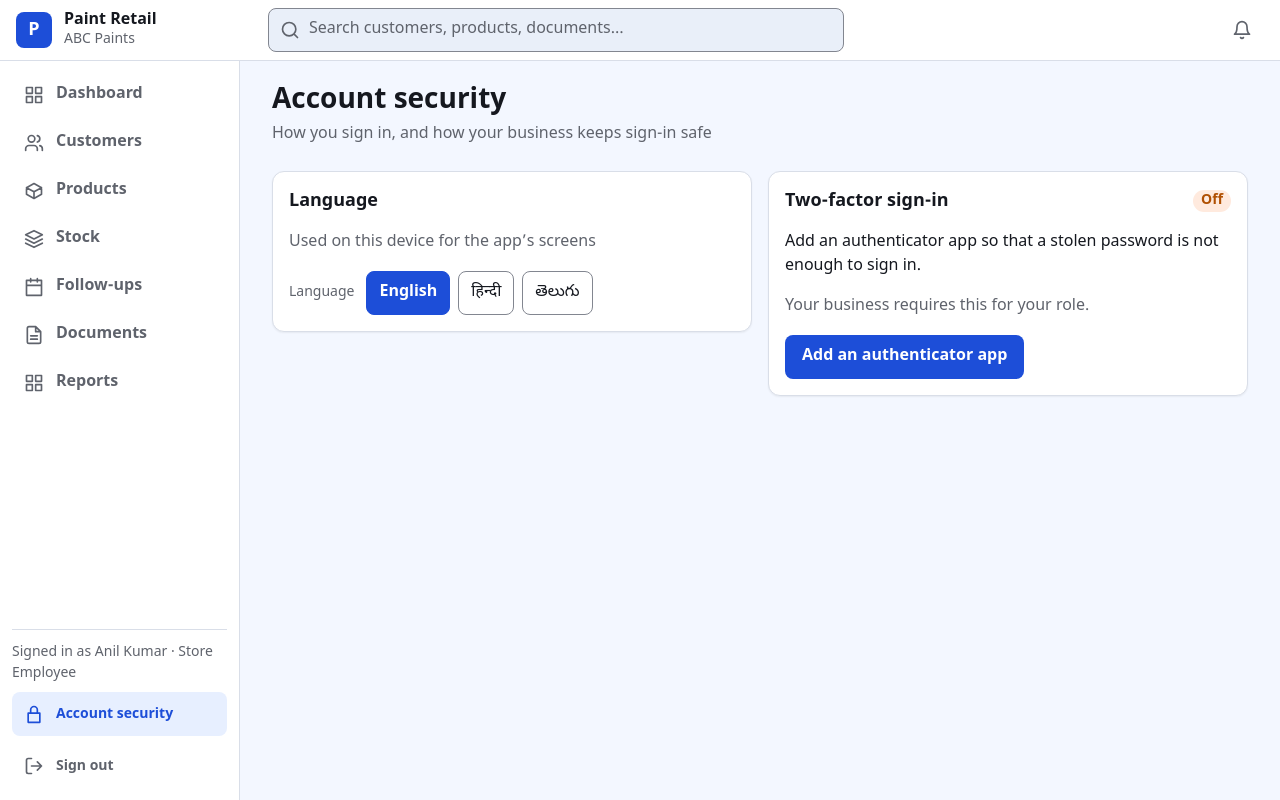
Test: own two-factor sign-in › shows why an app could not be added
Expected: the text "Your business requires this for your role." is shown, [785,296,1089,317]
Click the button "Add an authenticator app". click: {"x": 905, "y": 357}
box: [785,335,1024,379]
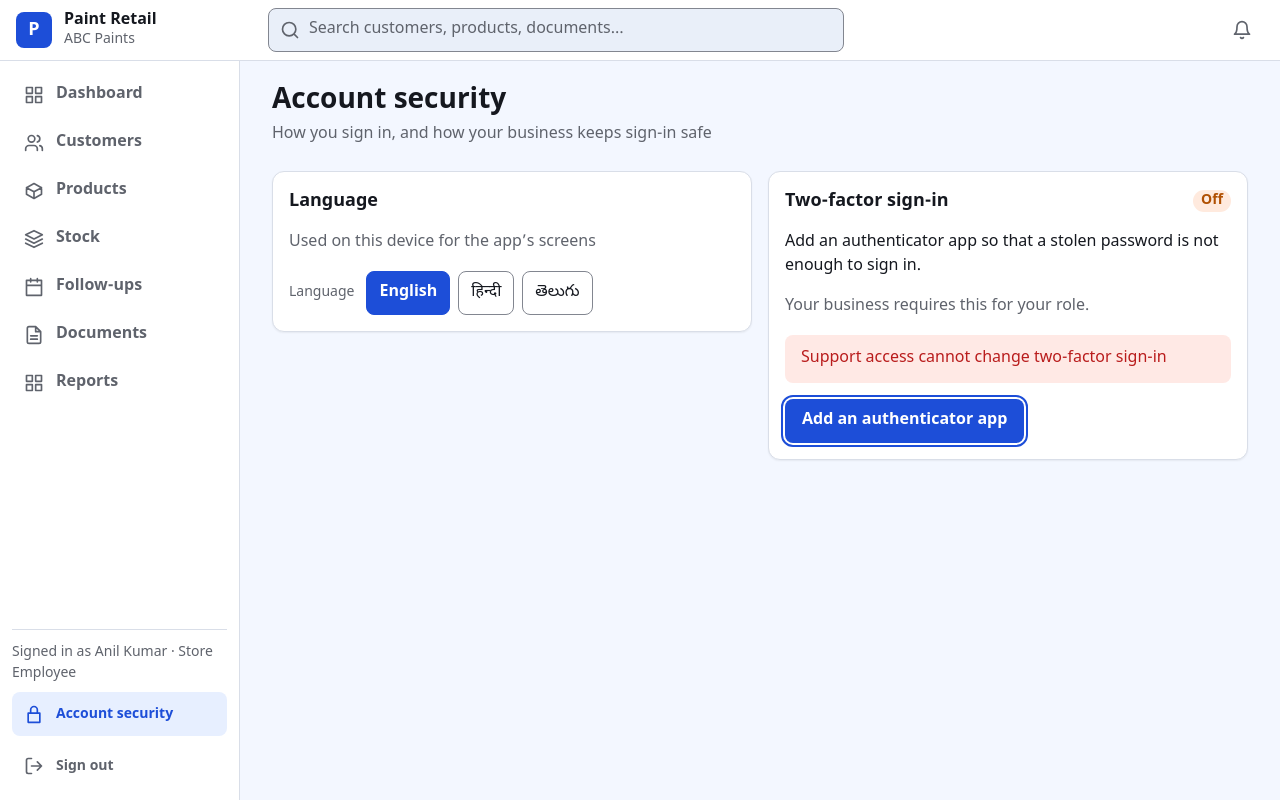
Now the message reads "Support access cannot change two-factor sign-in", box [801,348,1167,369]
